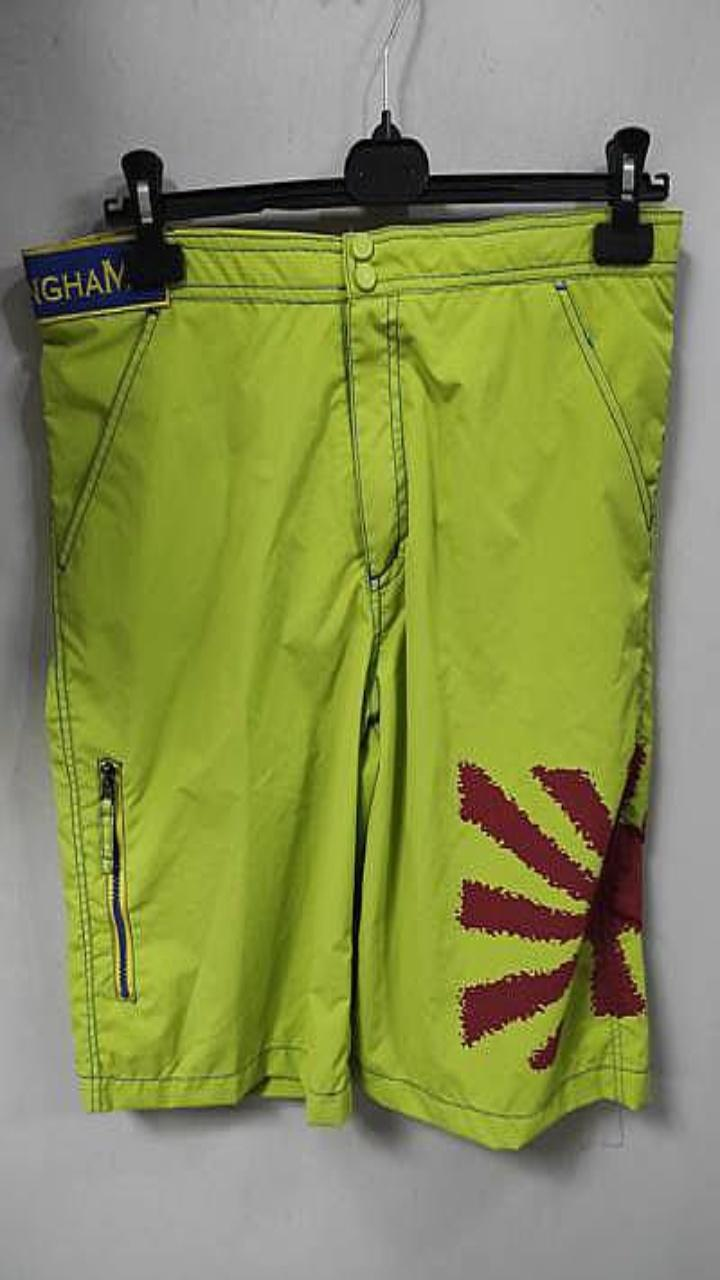Shorts: (24, 207, 681, 1147)
